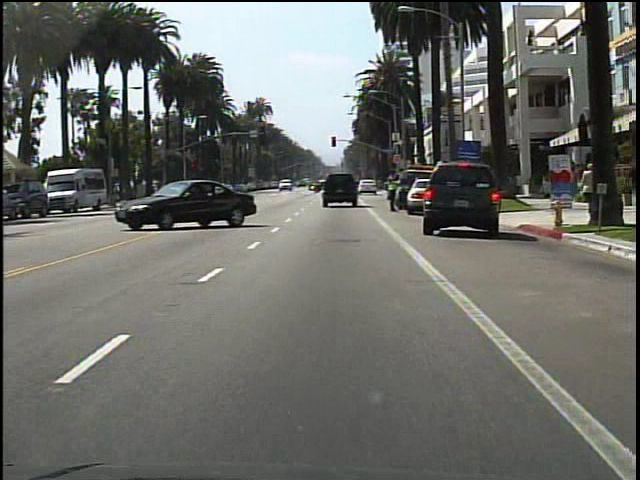person: (577, 161, 597, 218), (384, 171, 403, 218)
